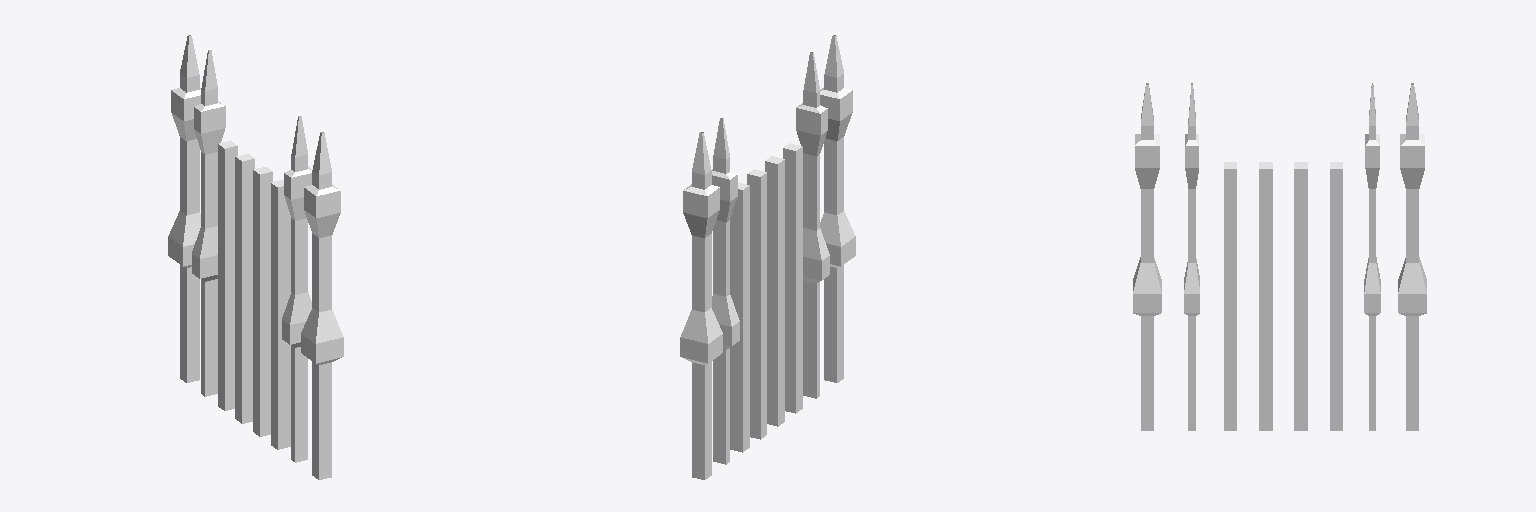
The model's file is reja.obj.
The picture shows the model from 3 angles: view 1: azimuth 30°, elevation 25°; view 2: azimuth 150°, elevation 25°; view 3: azimuth 270°, elevation 25°; orthographic projection.
Parts seen in each view (by area): view 1: pCube23, pCube5, pCube6, pCube22, pCube21, pCube19, pCube20, pCube1; view 2: pCube5, pCube23, pCube22, pCube6, pCube20, pCube21, pCube1, pCube19; view 3: pCube5, pCube23, pCube19, pCube20, pCube1, pCube21, pCube22, pCube6.
Part boxes in pixels (x1,y1,x2,y2): pCube23: (301, 132, 343, 479); pCube5: (168, 35, 200, 382); pCube6: (192, 50, 225, 396); pCube22: (282, 116, 311, 462); pCube21: (271, 180, 290, 449); pCube19: (235, 154, 254, 423); pCube20: (253, 167, 272, 436); pCube1: (218, 141, 237, 410); pCube5: (680, 132, 722, 479); pCube23: (820, 35, 855, 382); pCube22: (796, 52, 829, 398); pCube6: (712, 118, 739, 464); pCube20: (765, 156, 784, 426); pCube21: (783, 143, 802, 413); pCube1: (730, 182, 749, 452); pCube19: (747, 169, 766, 439); pCube5: (1398, 83, 1426, 430); pCube23: (1133, 83, 1161, 430); pCube19: (1294, 162, 1307, 430); pCube20: (1259, 162, 1272, 430); pCube1: (1330, 162, 1342, 430); pCube21: (1224, 162, 1236, 430); pCube22: (1184, 83, 1199, 430); pCube6: (1364, 83, 1380, 430).
Size of the model in its own units: 1.33 by 15.59 by 12.1.